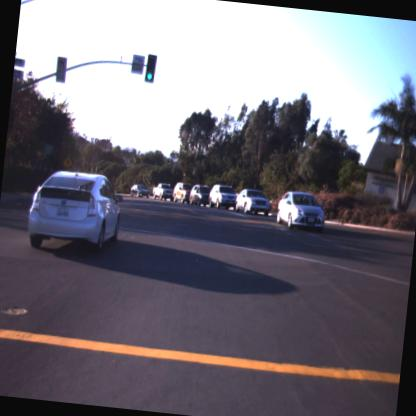trafficlight: (144, 54, 158, 82)
